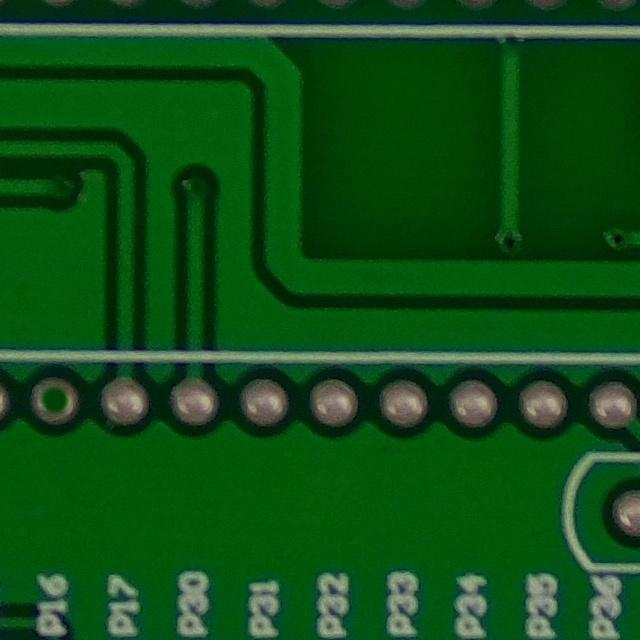missing_hole: (20, 371, 89, 433)
